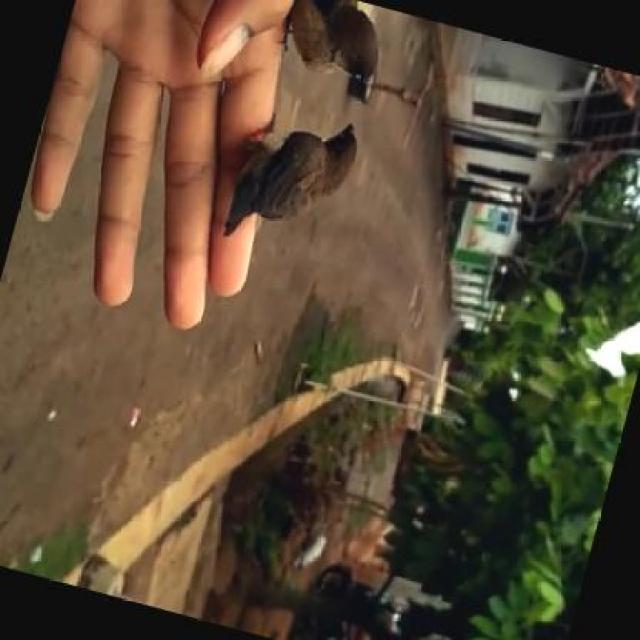Bird: (238, 116, 372, 239), (293, 6, 382, 108)
